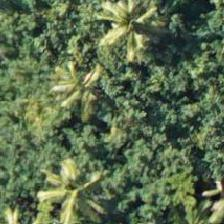coconut_tree: (36, 43, 126, 133), (82, 0, 172, 75), (27, 152, 117, 223)
